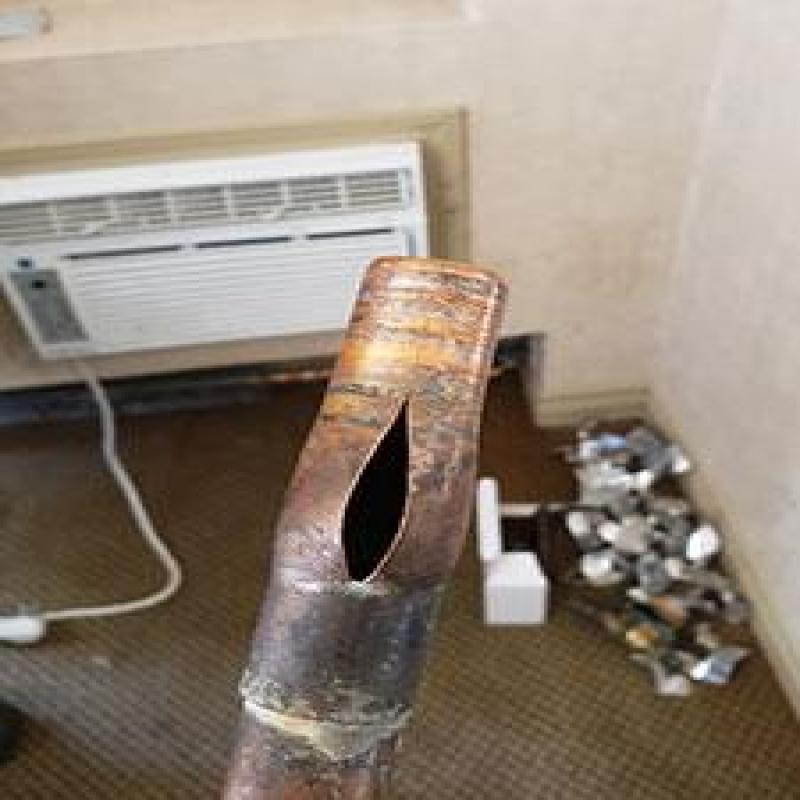Fracture: (336, 398, 410, 579)
